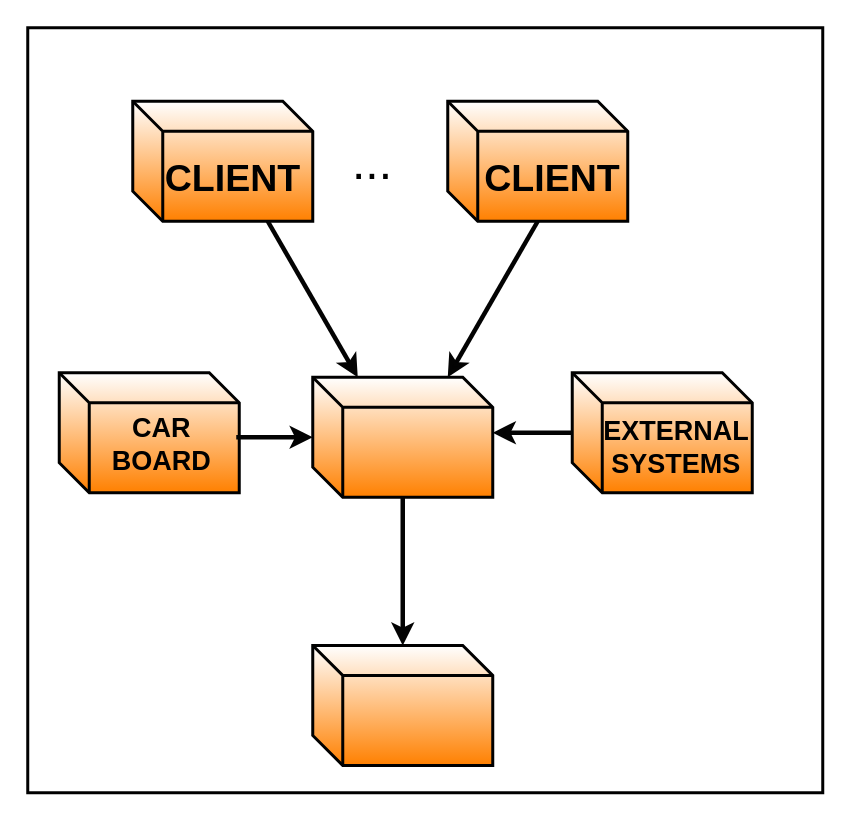
Image size: 849x819. Some labels were removed from this diagram. The centre of each missing label's shape, as x and y in pixels:
DATA: the point at 402,704
SERVER: the point at 402,436
